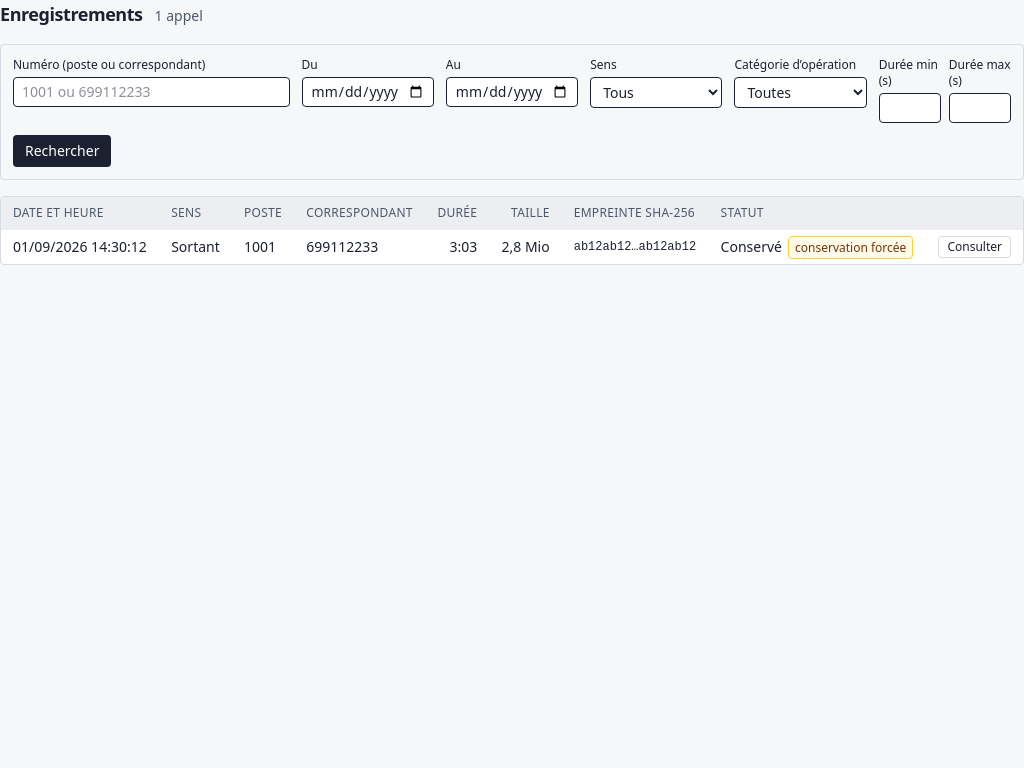
conservation forcée au portail › annonce la mesure sur la fiche, avec son motif, son dossier et son auteur
Click the button with aria-label "Consulter l’appel" at point(975, 247), box [938,236,1011,258]
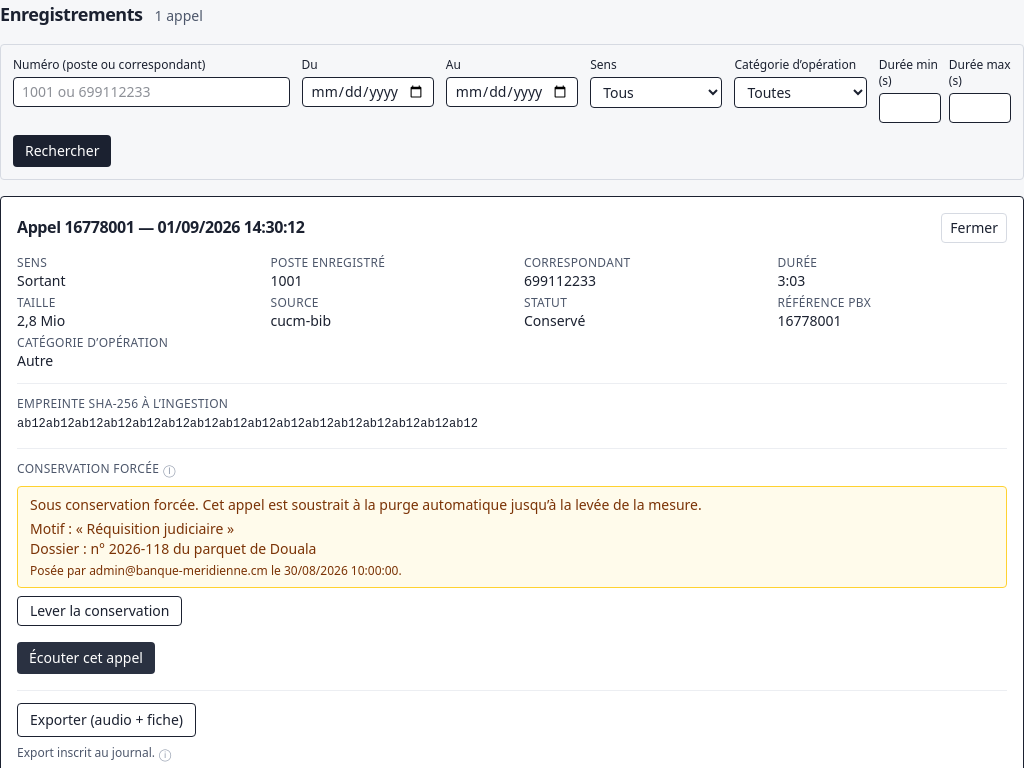
Now the message shows "Sous conservation forcée", box [30,495,199,514]
Now the message shows "soustrait à la purge automatique", box [199,495,702,514]
Now the message shows "Réquisition judiciaire", box [86,519,223,538]
